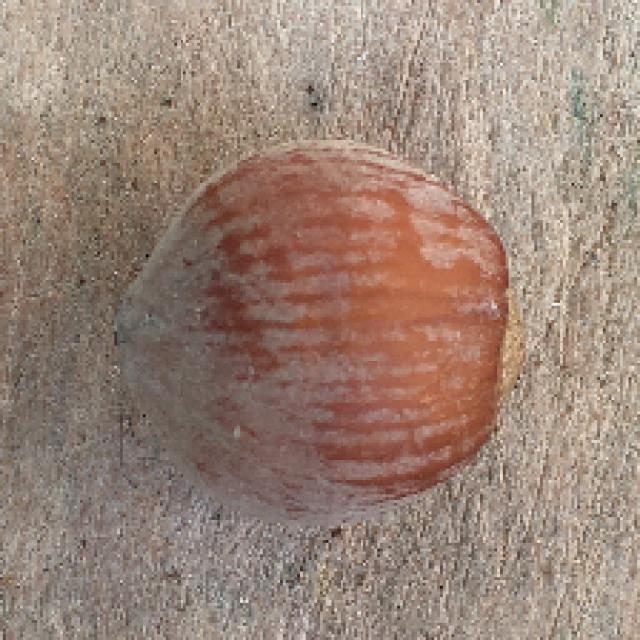qualityHazelnut: (123, 132, 530, 524)
